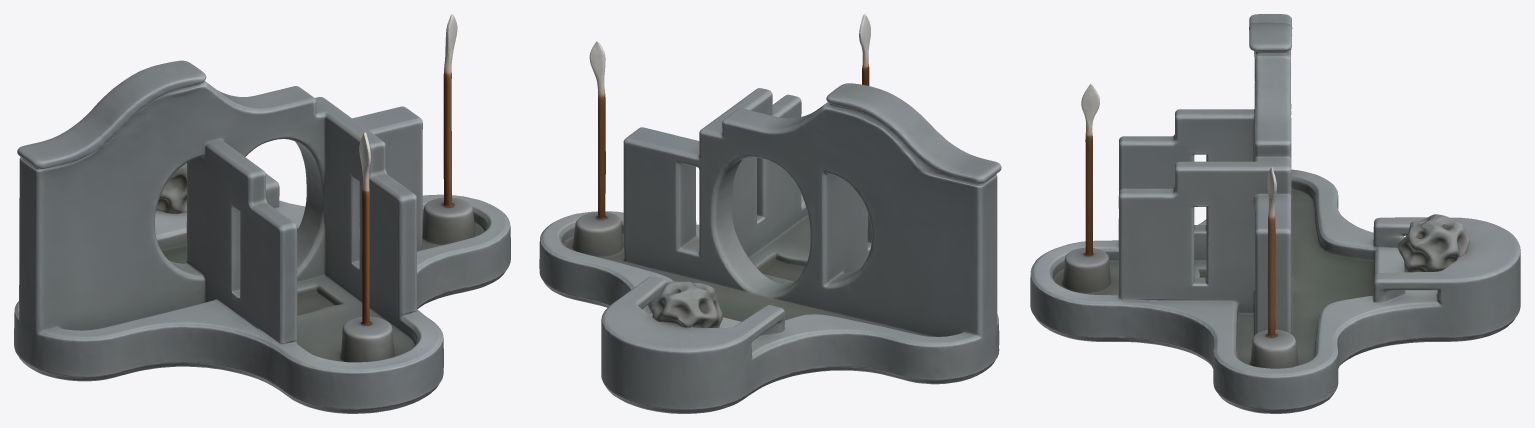
The model's file is de034b05-5476-4b1b-9880-8ff12dd76403-base_basic_pbr.glb.
3 views of the same model, side by side, from view 1: azimuth 30°, elevation 25°; view 2: azimuth 150°, elevation 25°; view 3: azimuth 270°, elevation 25° (orthographic). The views are drawn at different scales.
Visible parts, largest first — view 1: model; view 2: model; view 3: model.
Boxes of the visible parts, left/top/right/bottom form: model: left=14, top=14, right=510, bottom=413; model: left=539, top=14, right=1001, bottom=413; model: left=1030, top=14, right=1520, bottom=413.
Size of the model in its own units: 1.91 by 1.02 by 1.89.
1 material, 1 textured.
